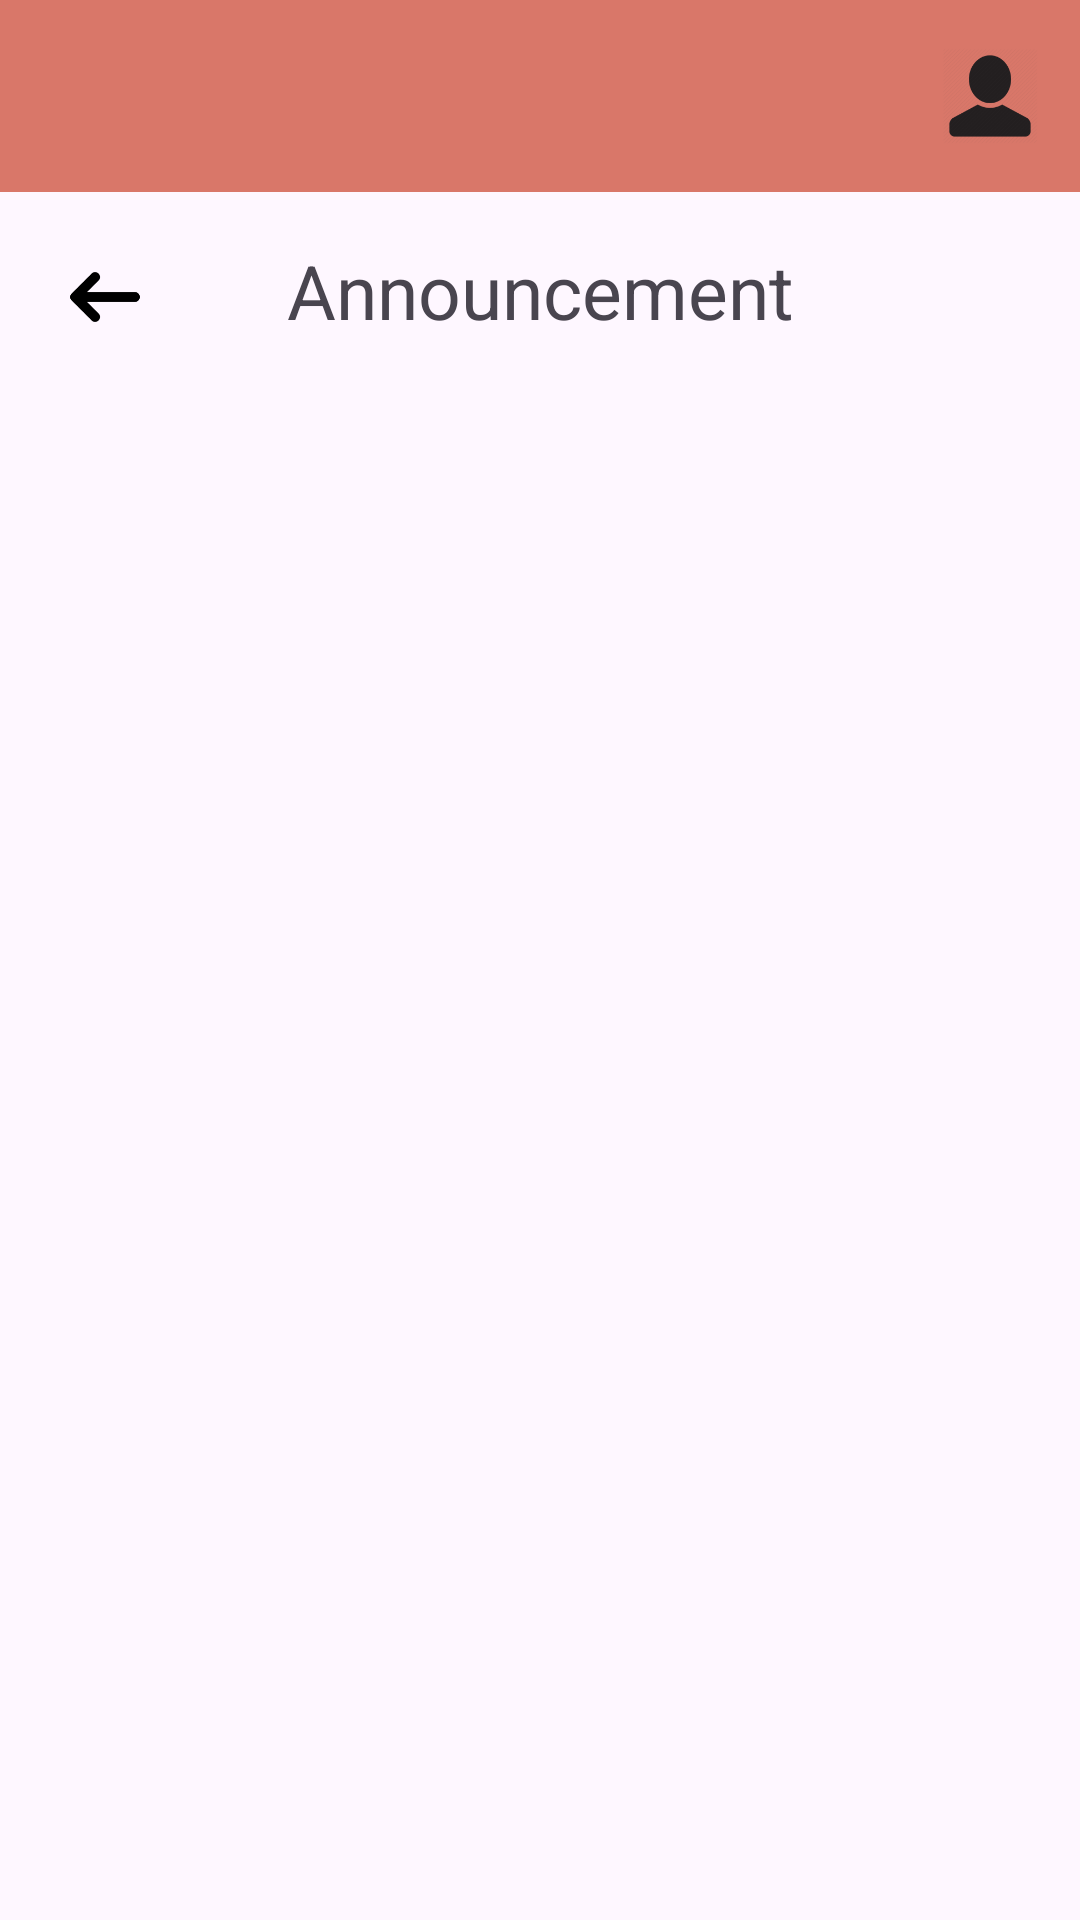

Icons on this 1080 x 1920 Android screen, each with its box as (x1, y1, x2, y2):
user profile: (949, 55, 1031, 137)
